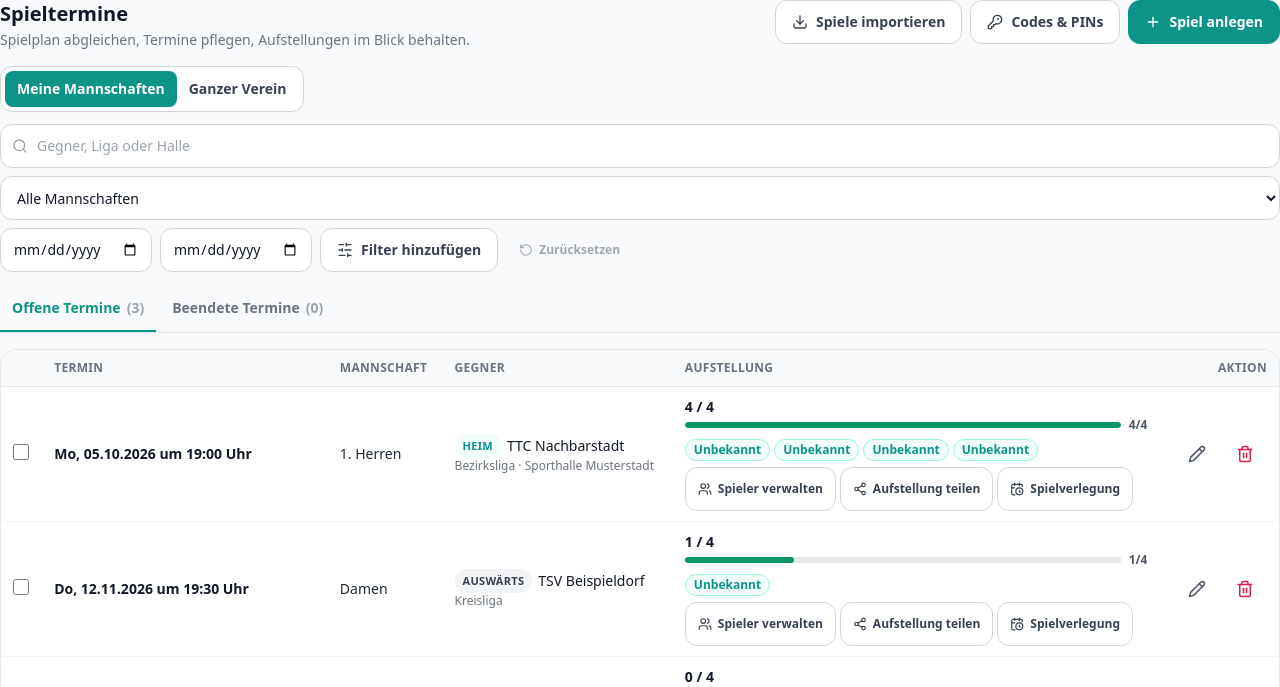
Test: GamesPage › speichert die Adresse und stößt den Abgleich an
This screenshot has width=1280, height=687.
Click the button "Spiele importieren". click: (869, 22)
box: [775,0,962,44]
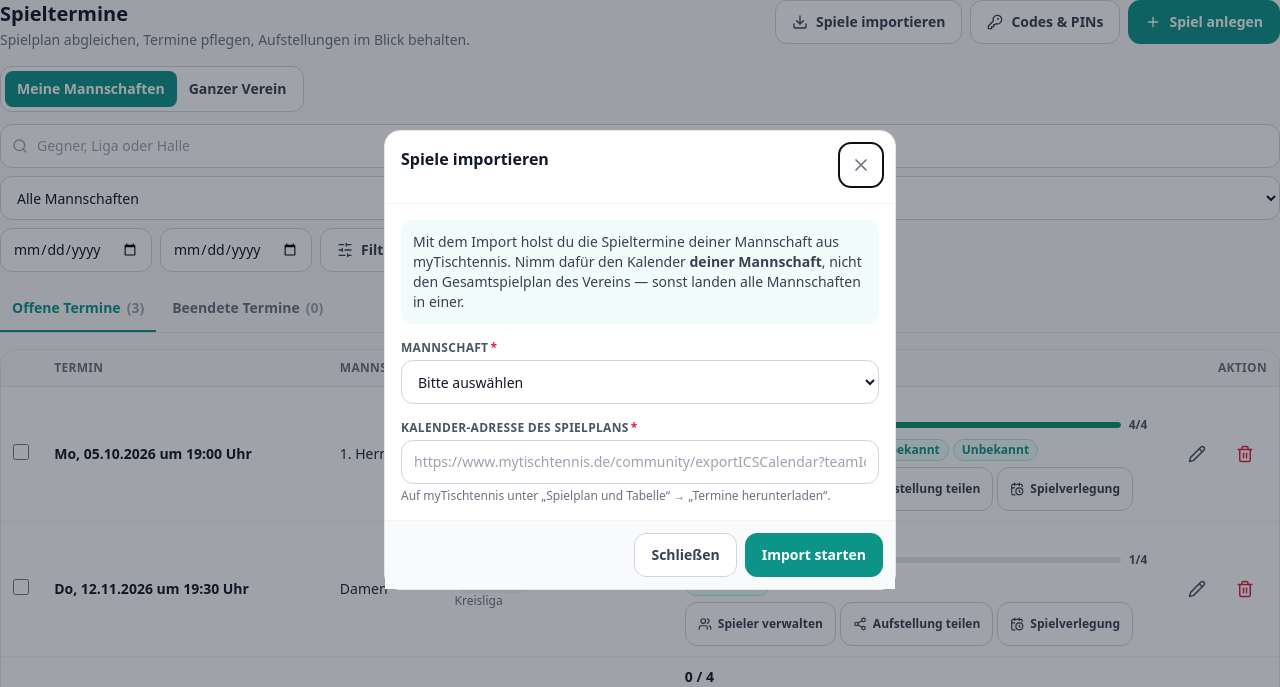
Select "1. Herren" in the dropdown labelled "Mannschaft*". click: (640, 382)
box: [401,360,879,404]
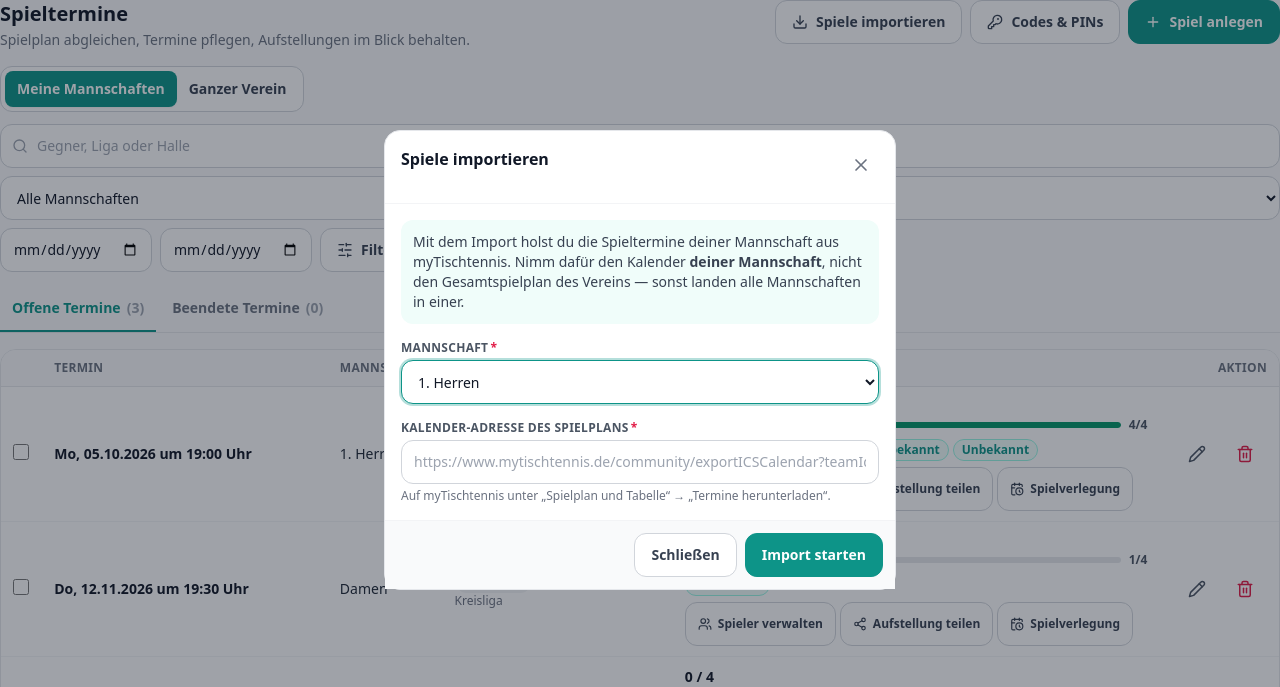
Type "https://www.mytischtennis.de/community/exportICSCalendar?teamIds=12345" into the field labelled "Kalender-Adresse des Spielplans*". click: (640, 462)
box: [401,440,879,484]
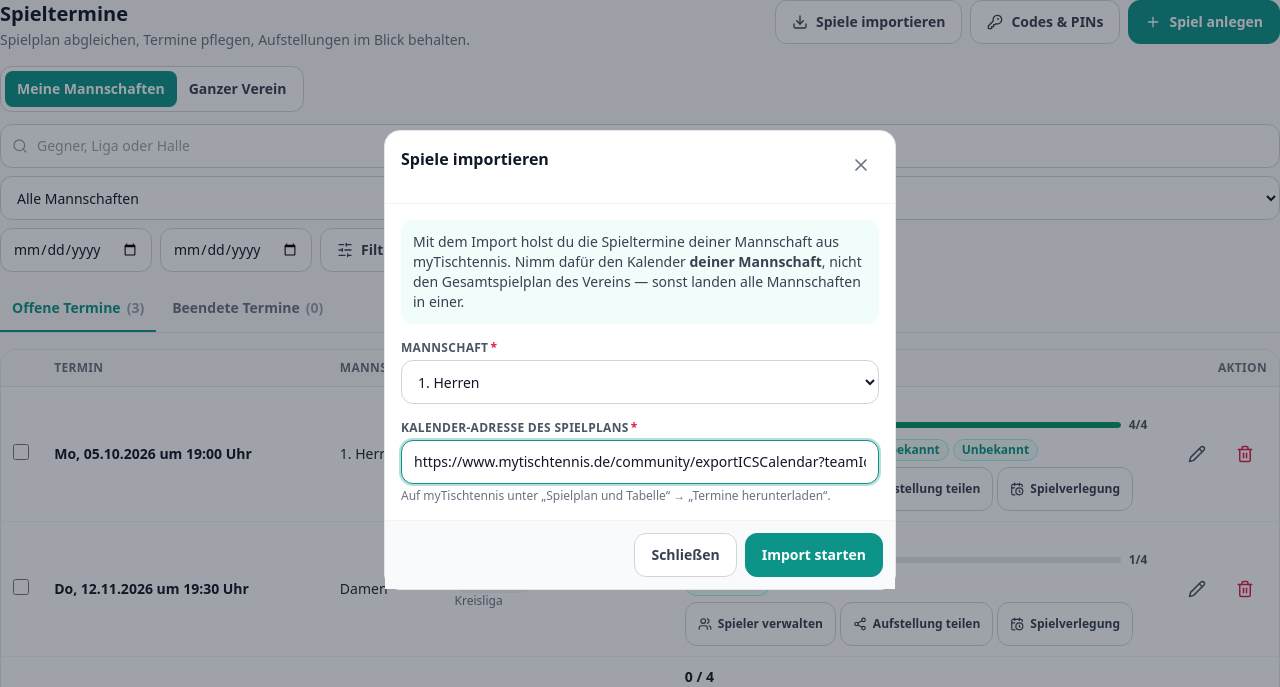
Click the button "Import starten". click: (814, 555)
box: [745,533,883,577]
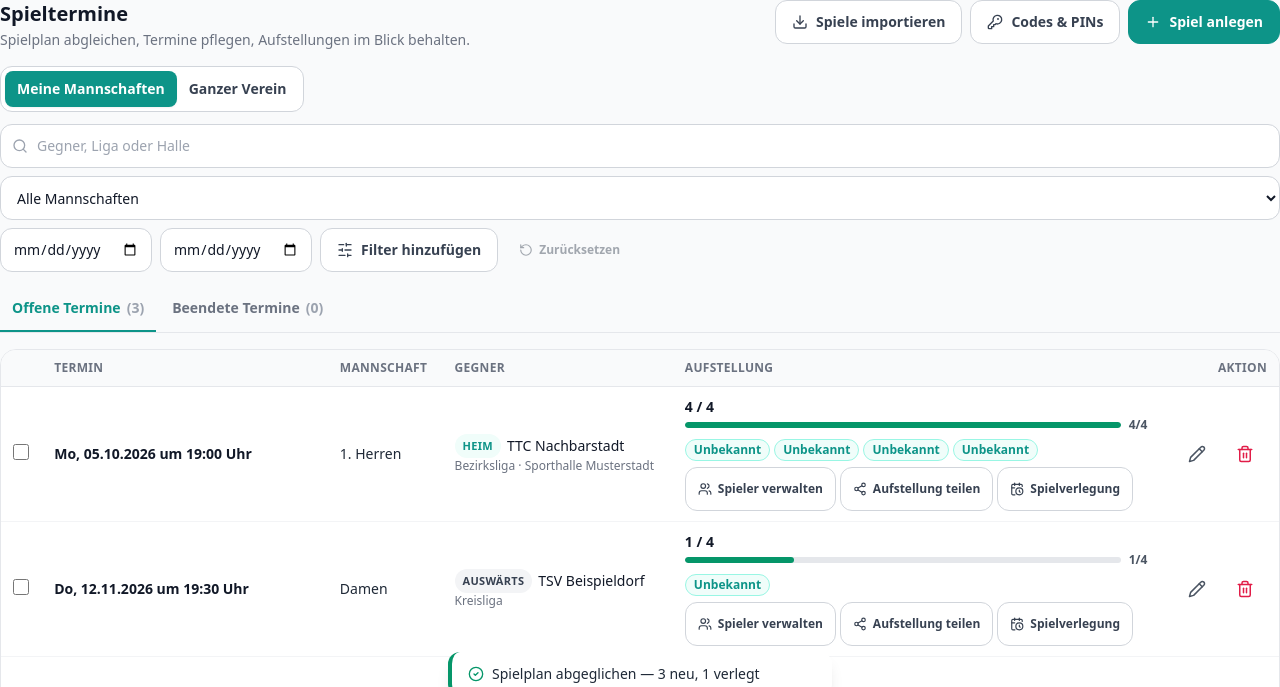
Result: the text "Spielplan abgeglichen — 3 neu, 1 verlegt" is shown at [492,664,760,684]
Result: the dialog is gone
